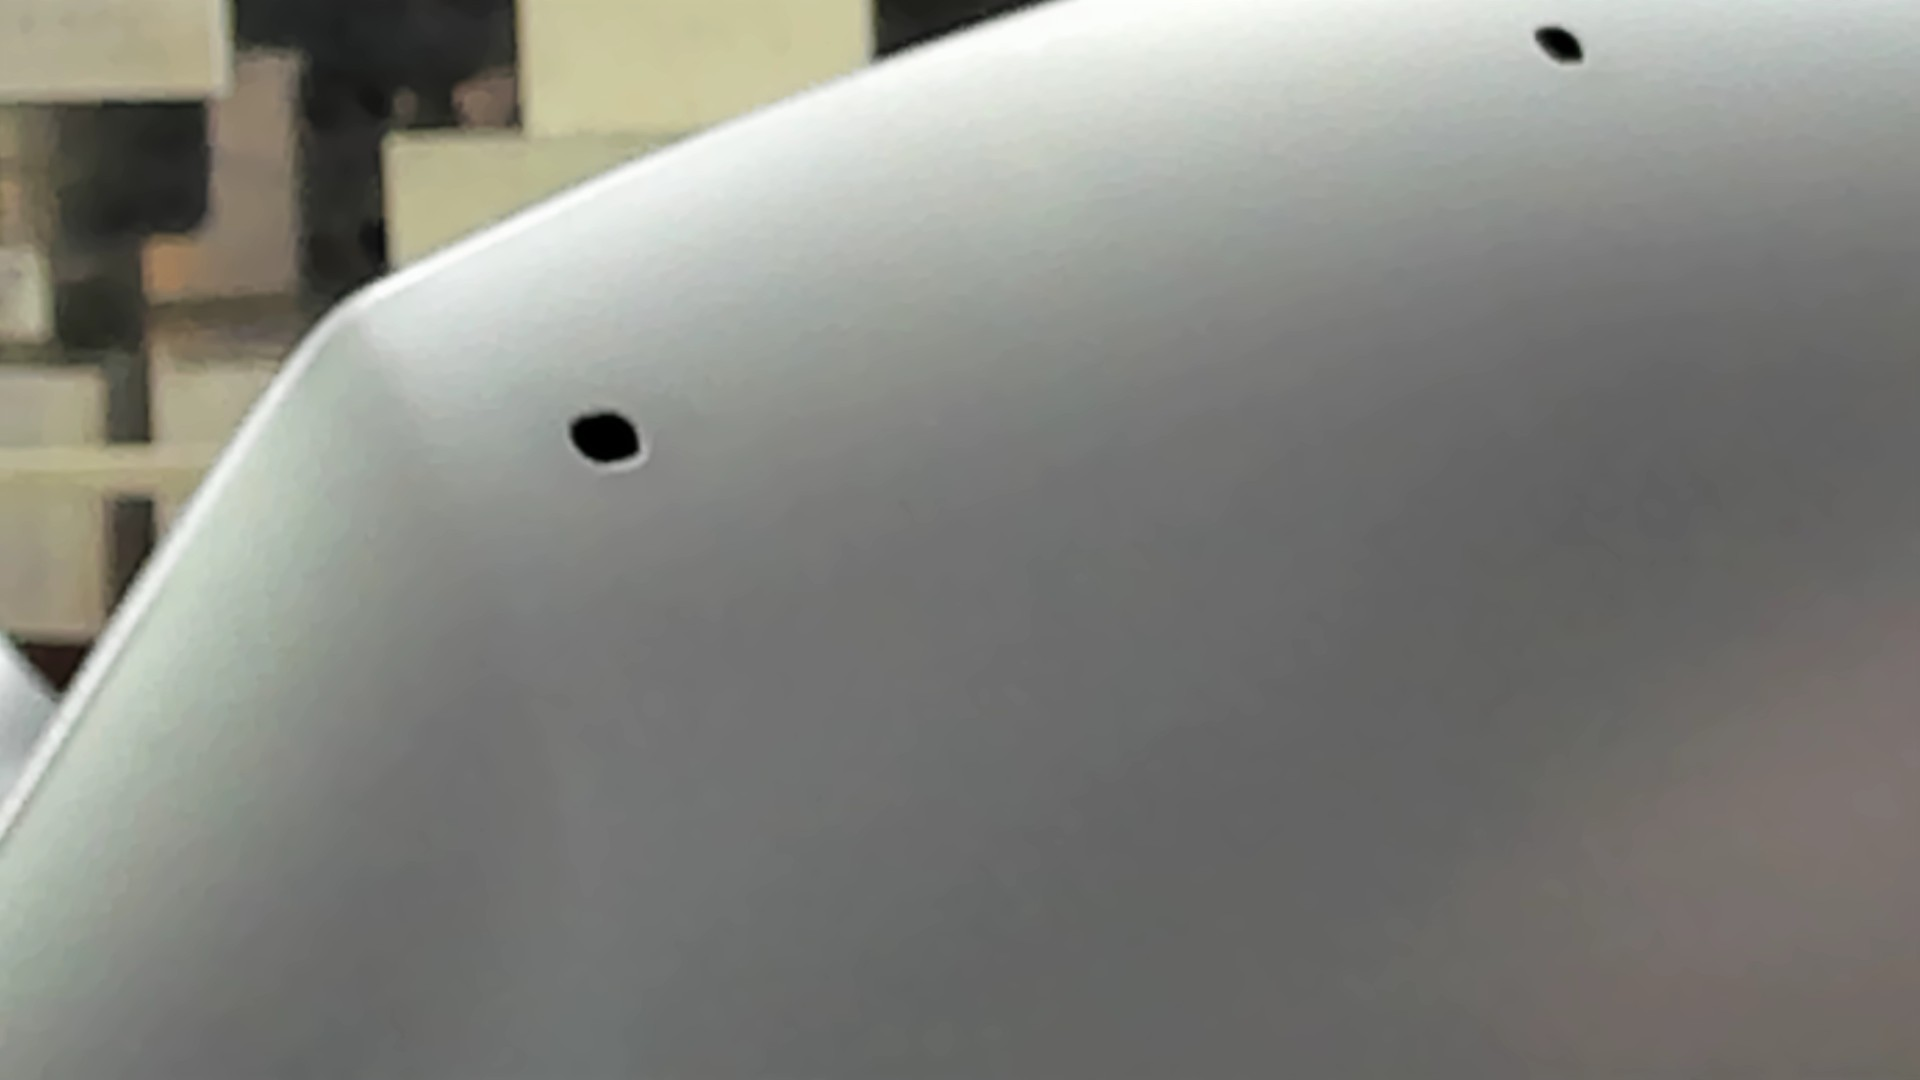amorfo: (559, 404, 651, 481), (1532, 15, 1588, 69)
capo: (771, 135, 1920, 1080)
